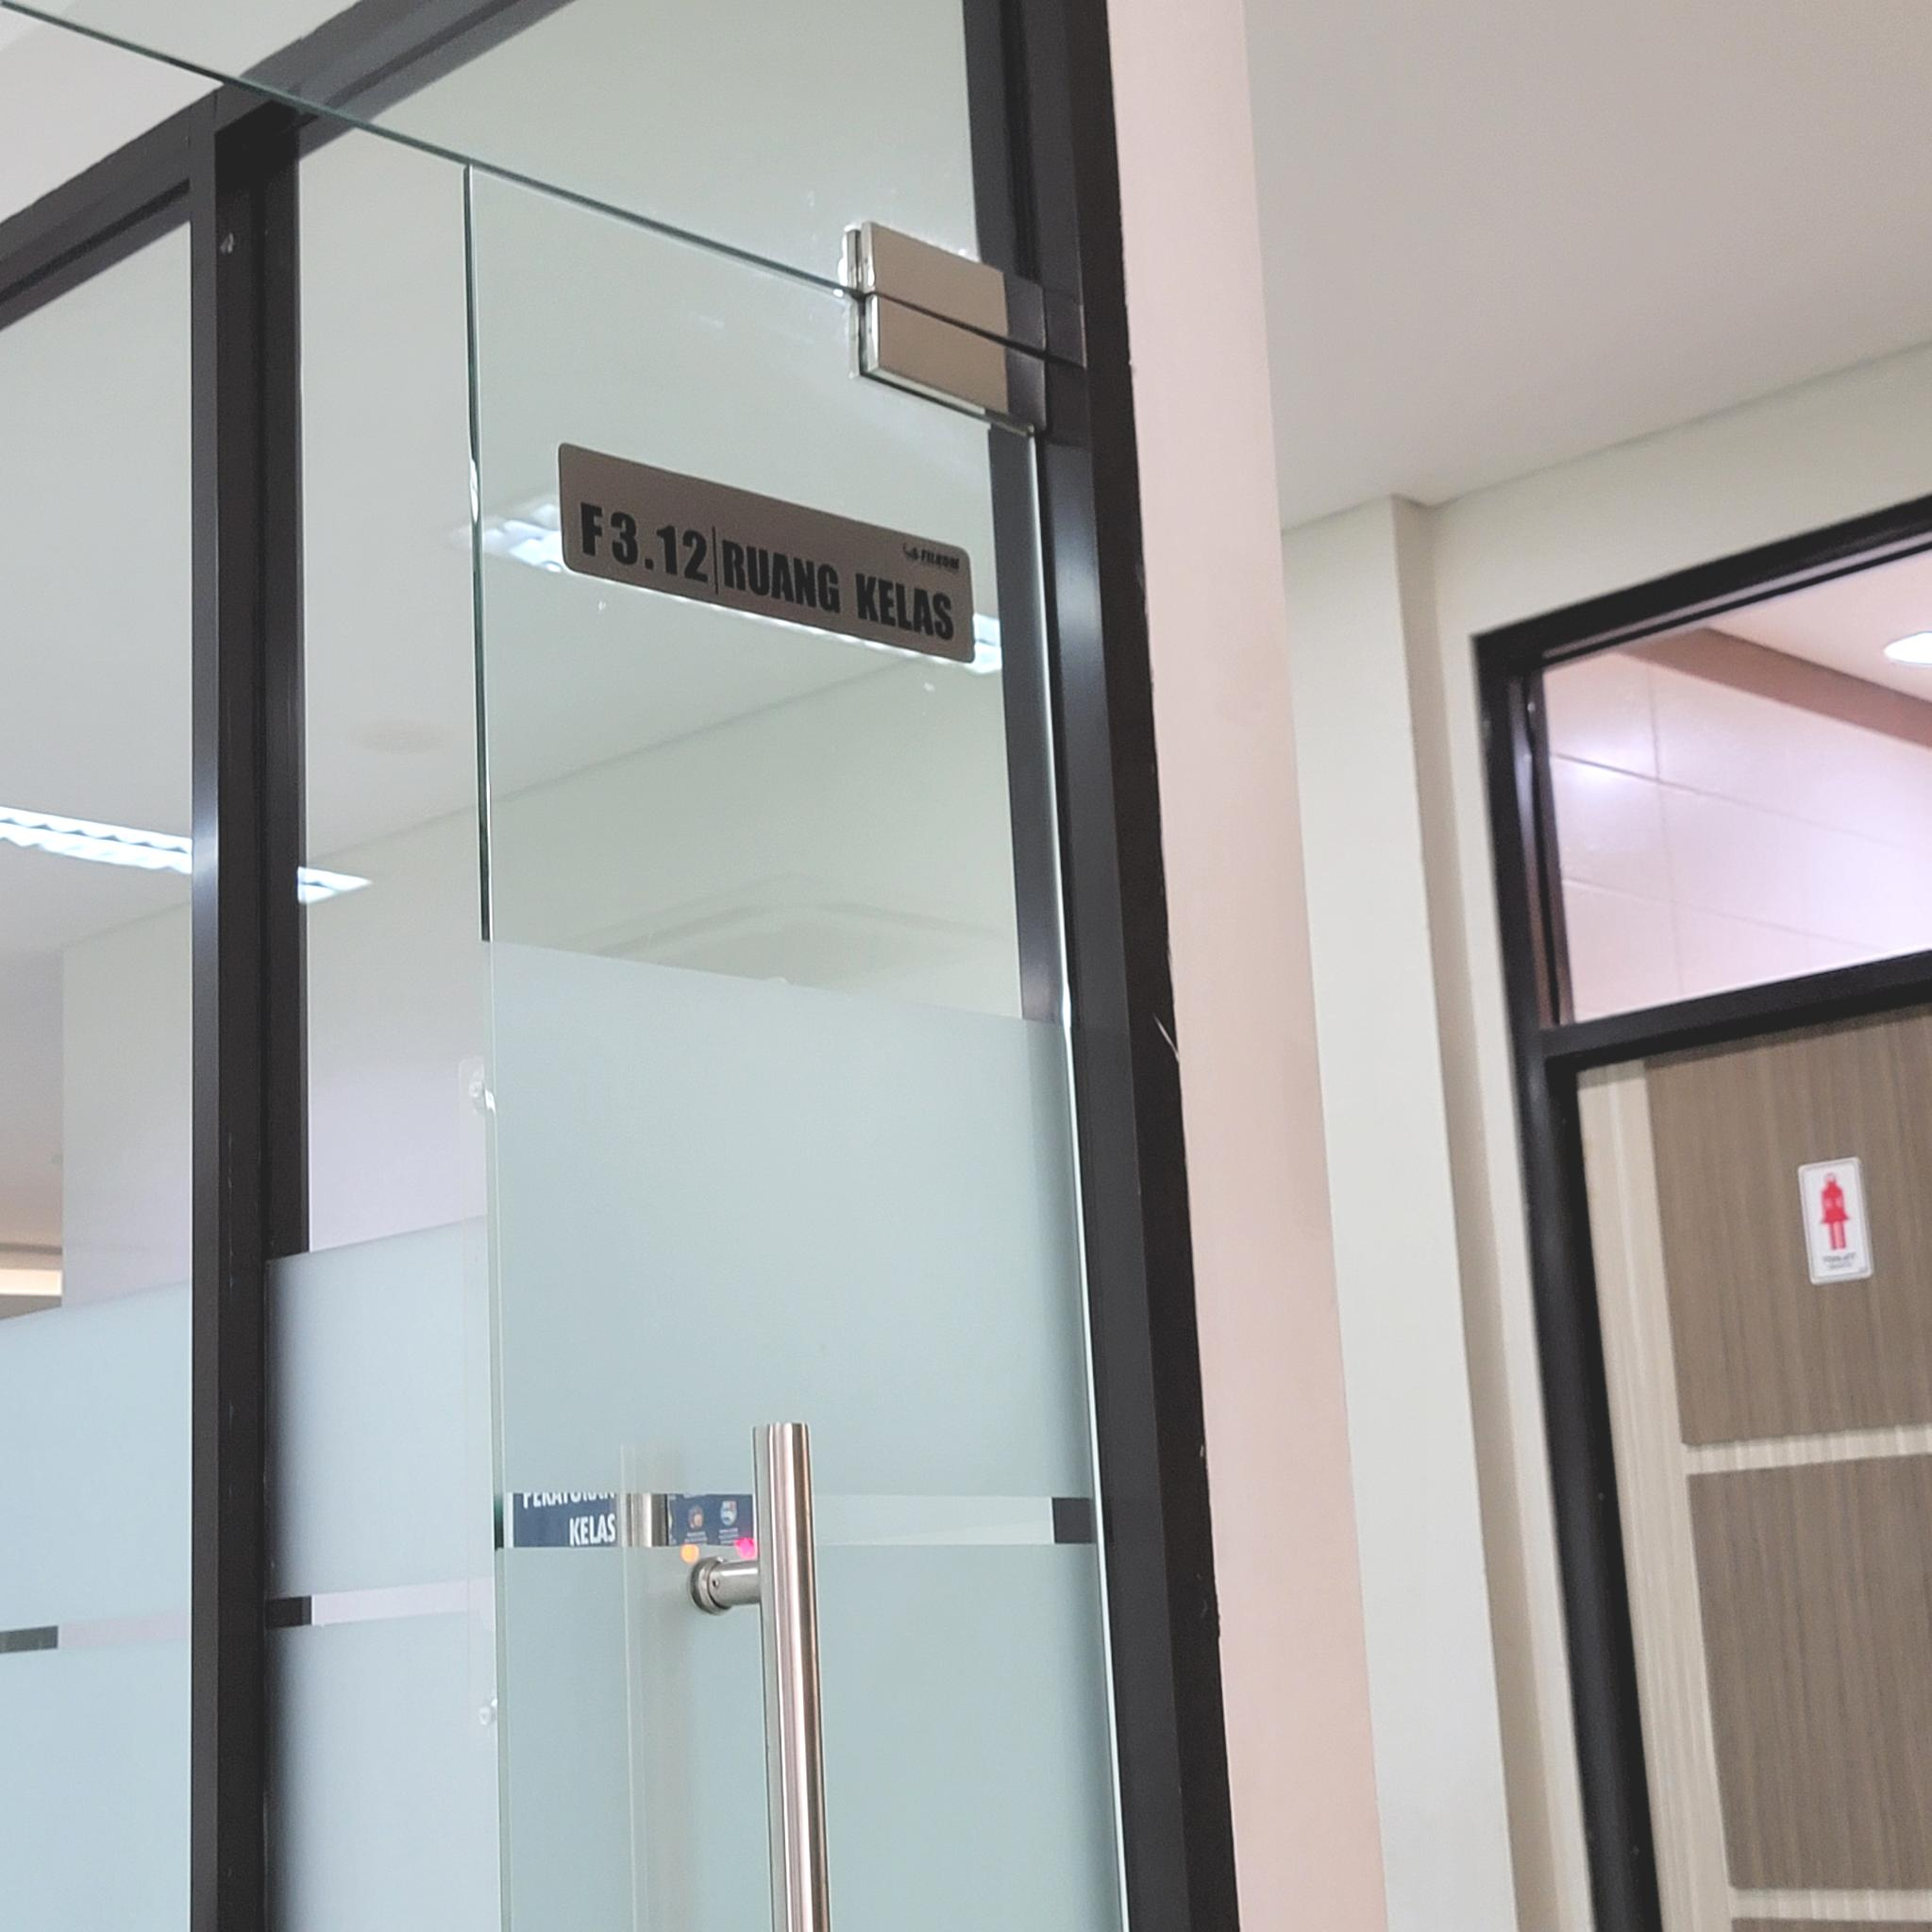plate: (557, 439, 978, 667)
